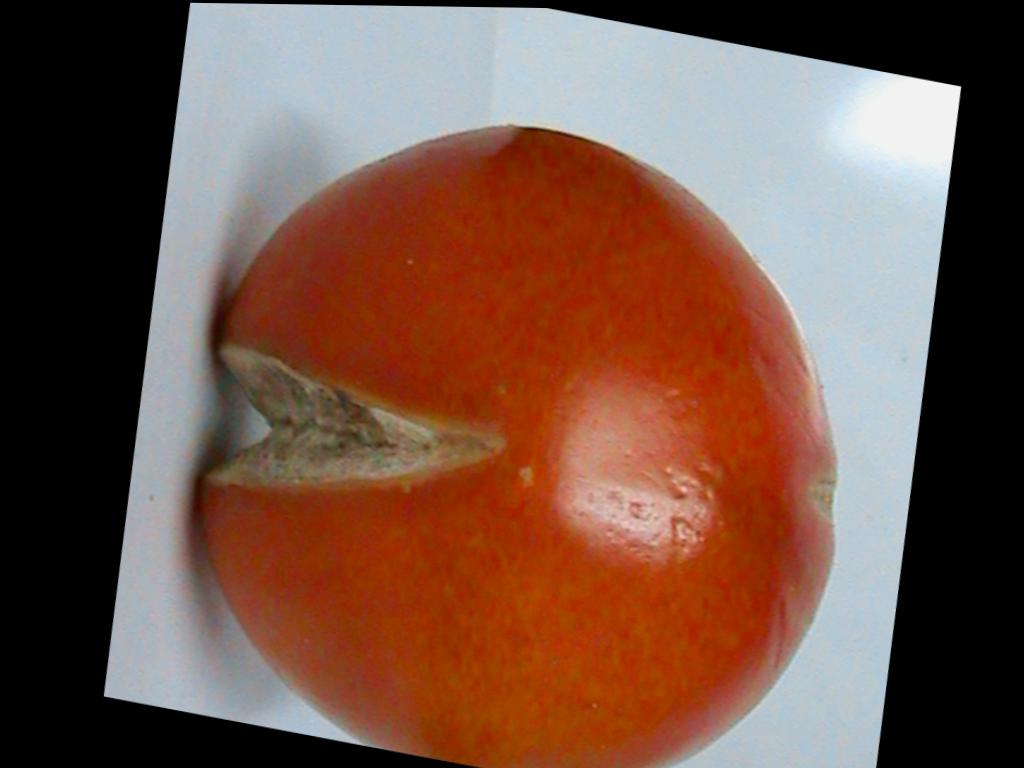surface_damage: (212, 345, 501, 485)
tomato: (202, 128, 836, 768)
